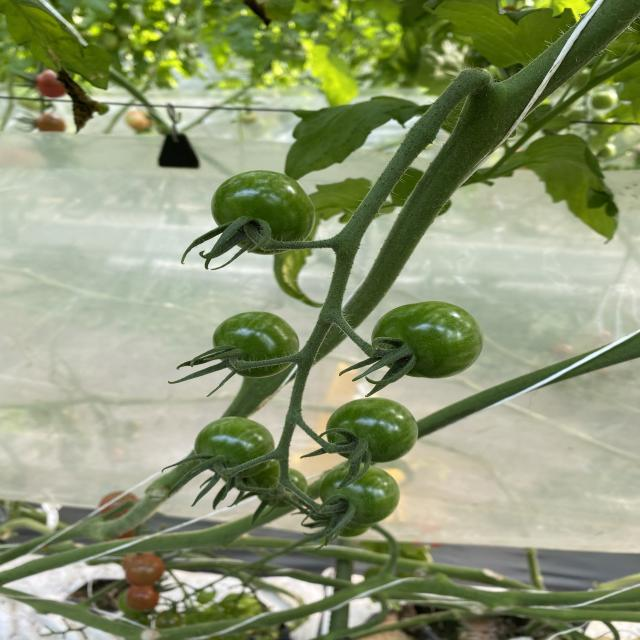c-unriped: (210, 170, 316, 254), (369, 301, 484, 378), (326, 396, 419, 463), (212, 311, 300, 378), (194, 417, 276, 476), (318, 463, 399, 522), (258, 468, 308, 508), (219, 460, 279, 488)
